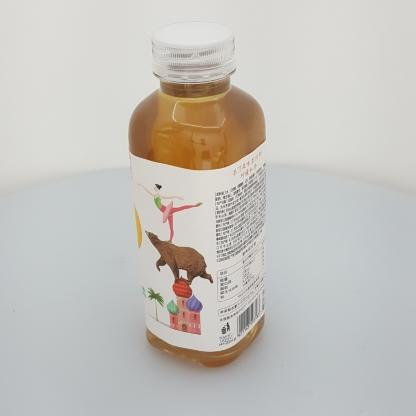------------: (128, 22, 266, 368)
